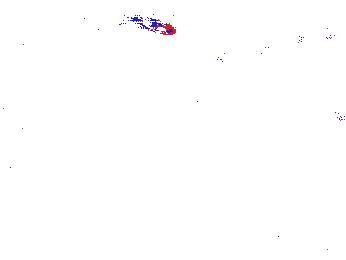red belly glassfish: (131, 14, 177, 37)
redtail glassfish: (207, 40, 273, 69), (287, 25, 346, 56)
